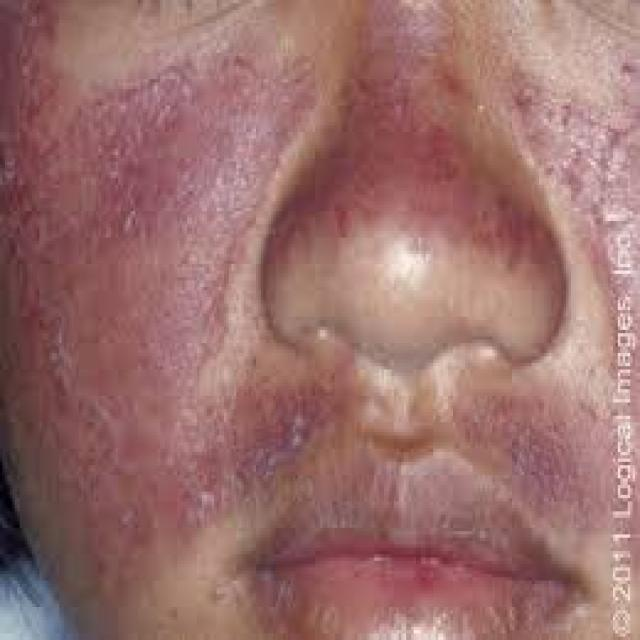Rosacea: (0, 3, 322, 574), (274, 0, 556, 306), (472, 30, 640, 531)
